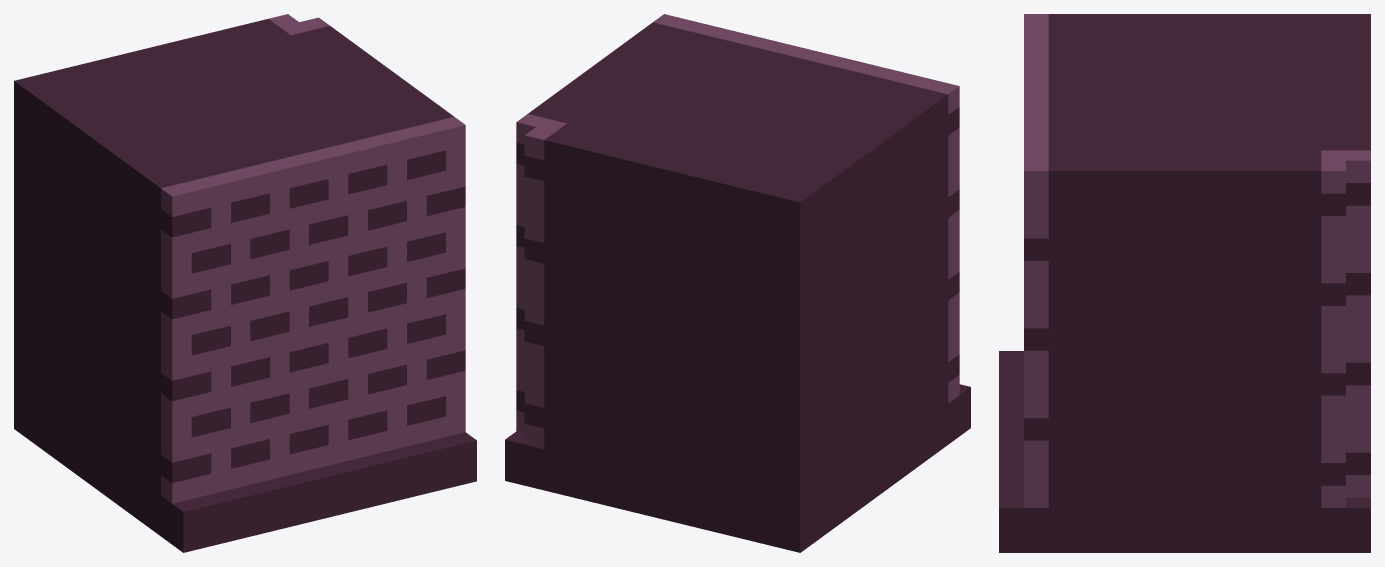
File: dungeon_c_b_outer_wall_segment_c_flipped.obj
The picture shows the model from 3 angles, left to right: view 1: azimuth 30°, elevation 25°; view 2: azimuth 150°, elevation 25°; view 3: azimuth 270°, elevation 25°; orthographic projection. The views are drawn at different scales.
Bounding box in the file's own units: 1.5 × 1.7 × 1.5.
Materials: 1 (1 with a texture image).
